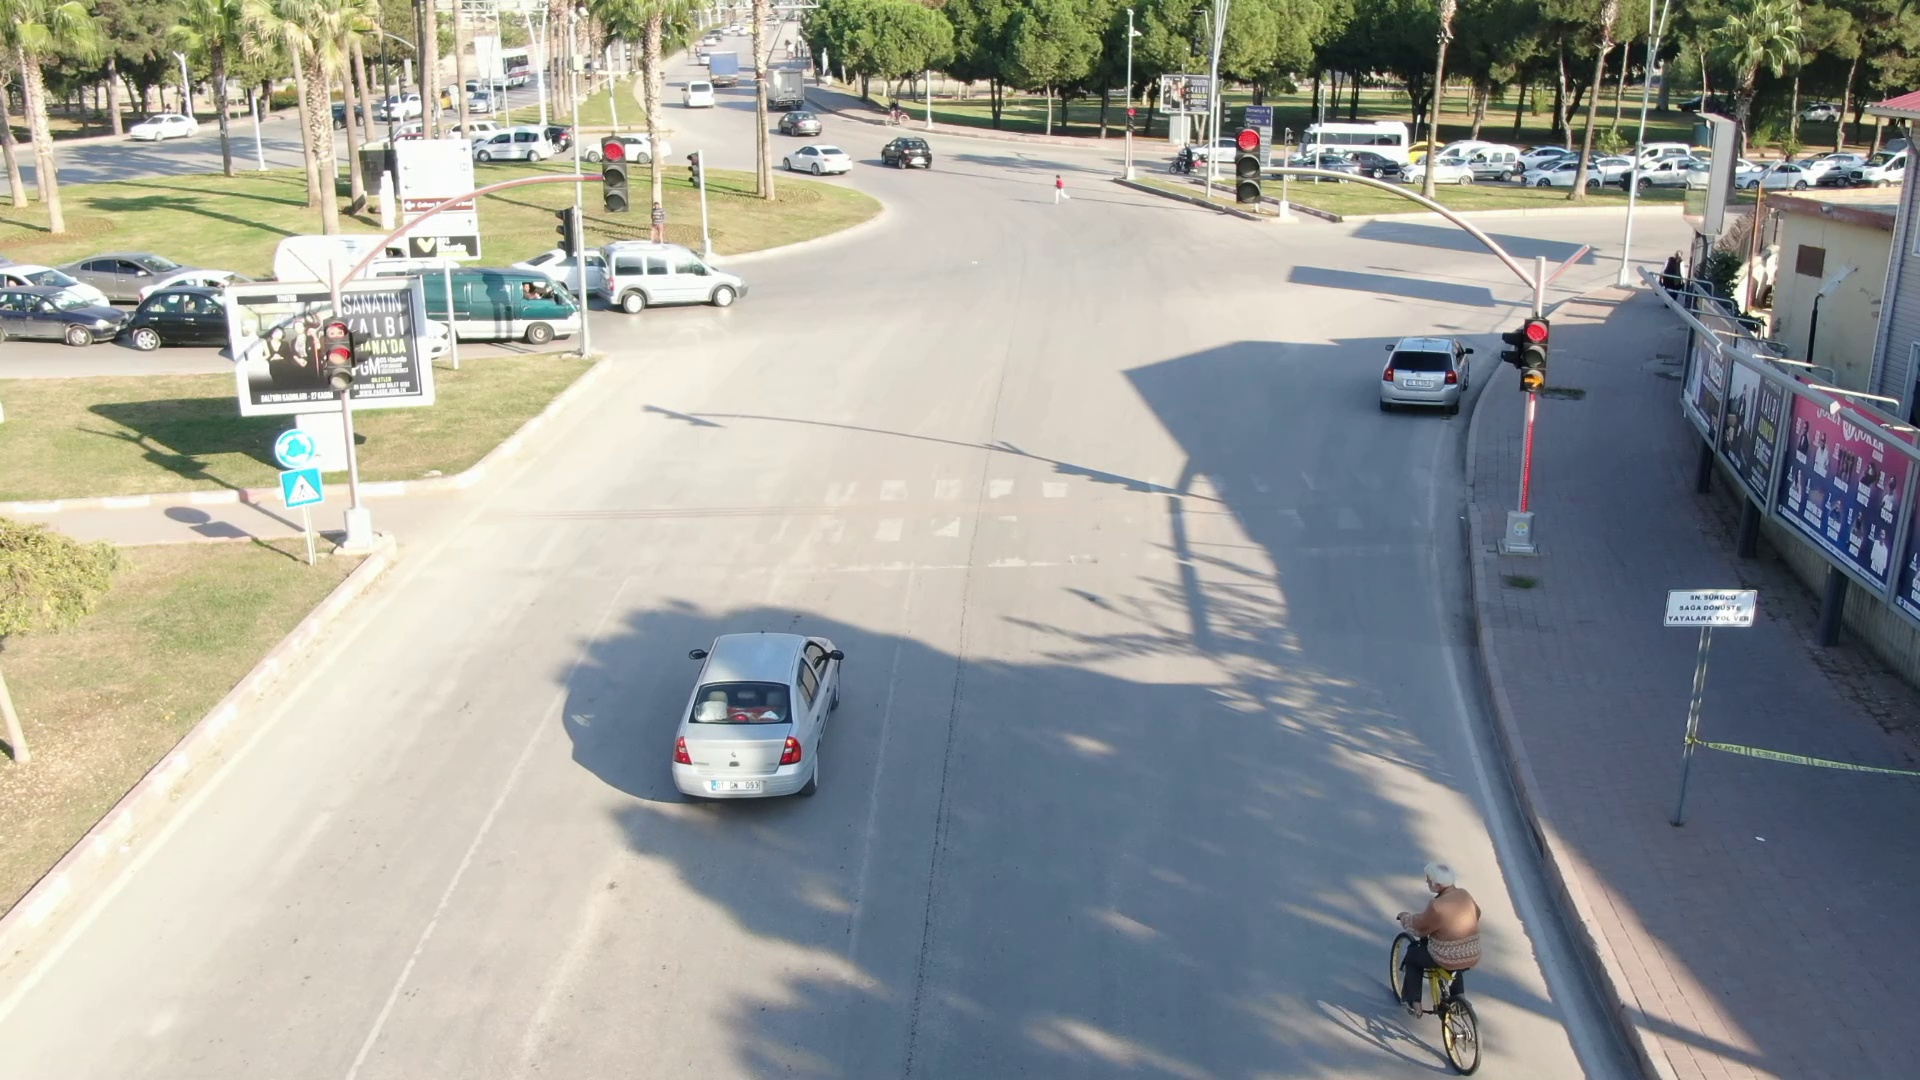car: (623, 610, 901, 836), (586, 226, 767, 336), (1354, 321, 1497, 432), (1, 273, 138, 363), (767, 130, 873, 195), (873, 124, 939, 179), (672, 78, 721, 112)
person: (1399, 839, 1512, 969)
